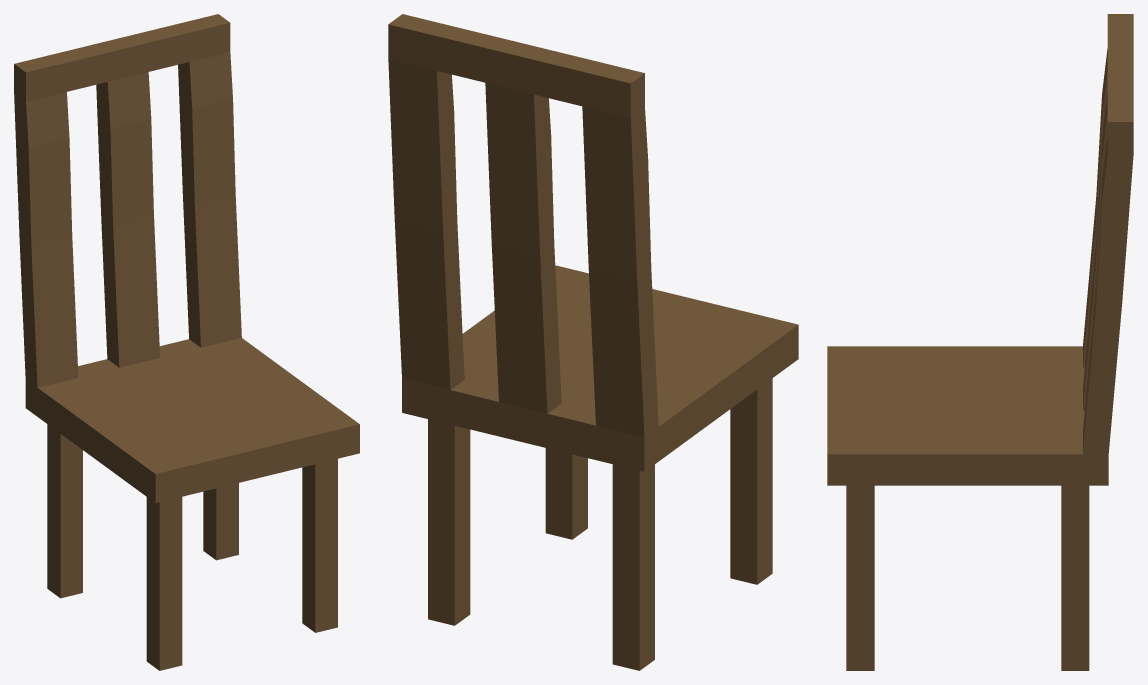
3 renders of one model, left to right at view 1: azimuth 30°, elevation 25°; view 2: azimuth 150°, elevation 25°; view 3: azimuth 270°, elevation 25°, orthographic. The views are drawn at different scales.
Visible parts, largest first — view 1: Plane.005; view 2: Plane.005; view 3: Plane.005.
Part boxes in pixels (<box>): Plane.005: <box>14,14,359,670</box>; Plane.005: <box>388,14,798,670</box>; Plane.005: <box>827,14,1133,670</box>.
Size of the model in its own units: 25.3 by 60.72 by 30.33.
